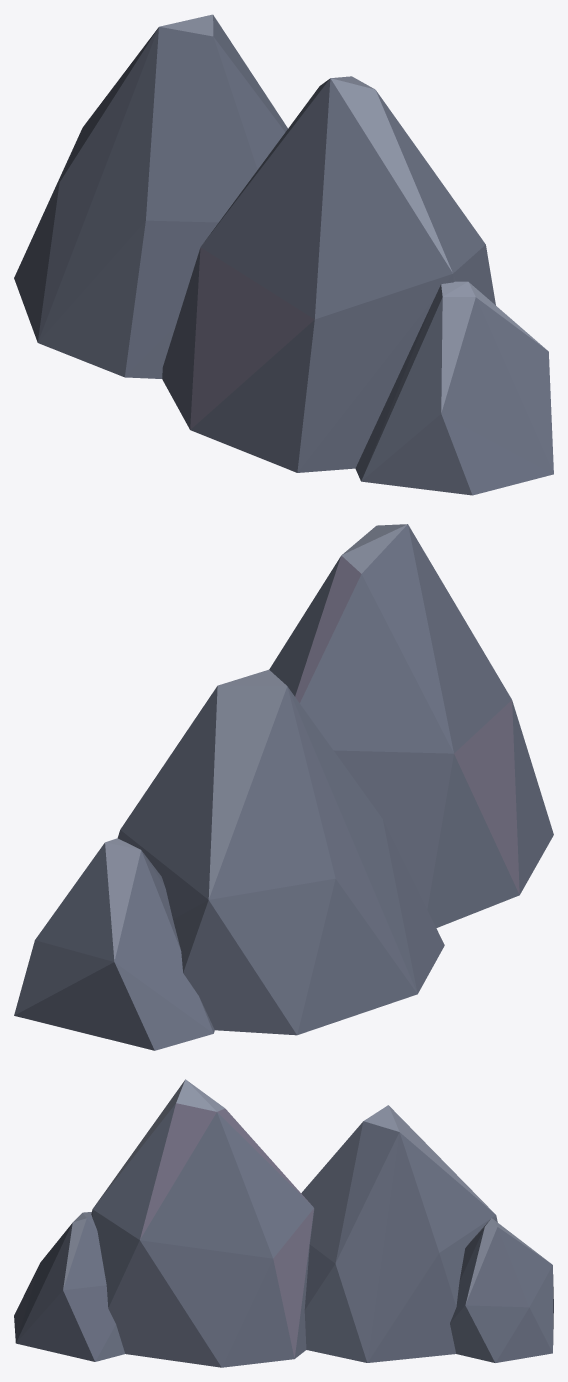
The model's file is mount_2.glb.
The picture shows the model from 3 angles, top to bottom: view 1: azimuth 30°, elevation 25°; view 2: azimuth 150°, elevation 25°; view 3: azimuth 270°, elevation 25°; orthographic projection. The views are drawn at different scales.
Parts seen in each view (by area): view 1: Body; view 2: Body; view 3: Body.
Part boxes in pixels (bbox=[...]): Body: bbox=[14, 14, 553, 495]; Body: bbox=[14, 524, 553, 1050]; Body: bbox=[14, 1079, 553, 1367].
Size of the model in its own units: 18.38 by 17.97 by 38.23.
